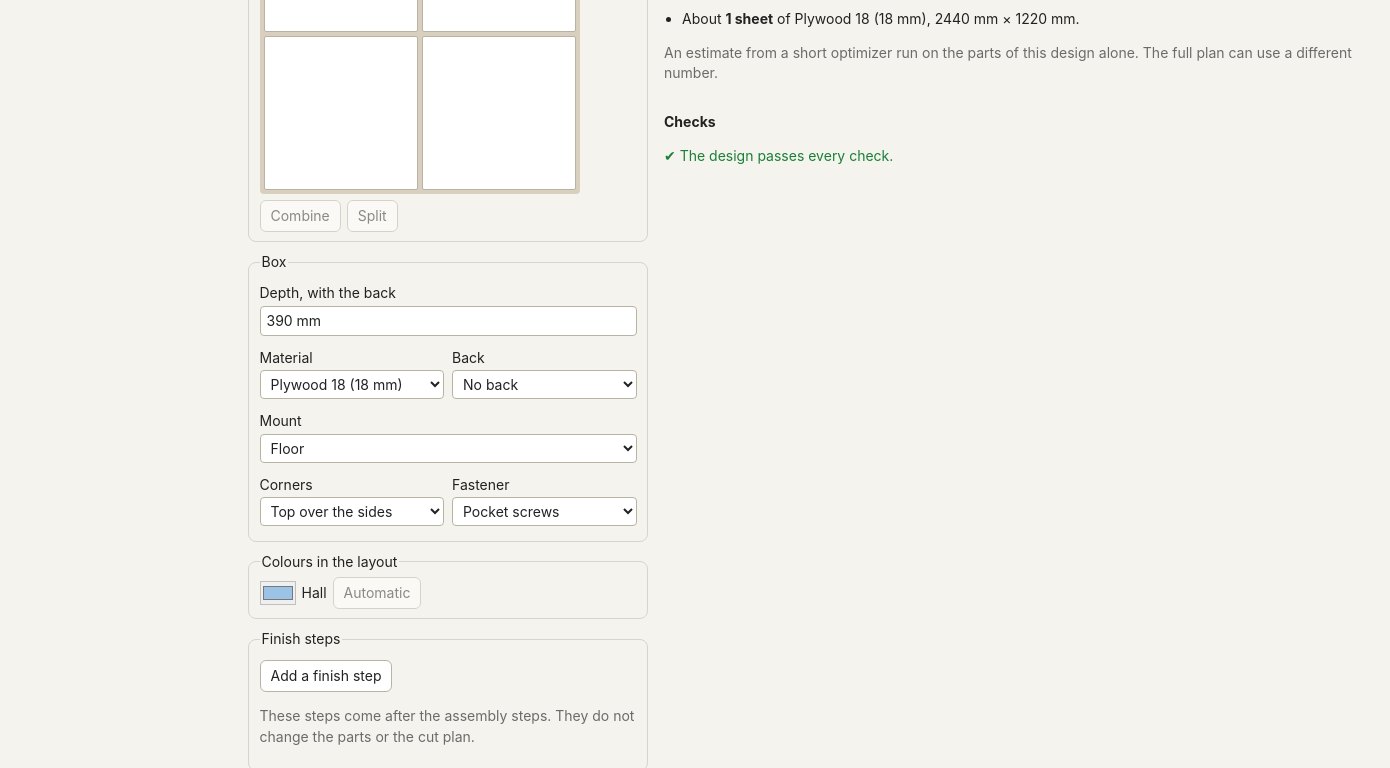
Test: DesignTab › refuses a value that gives a design error: it marks the field, says why, and changes nothing
(page scrolled)
Select "Plywood 6 (6 mm)" in the dropdown labelled "Material" at (352, 385), box [260,370,444,399]
(page scrolled)
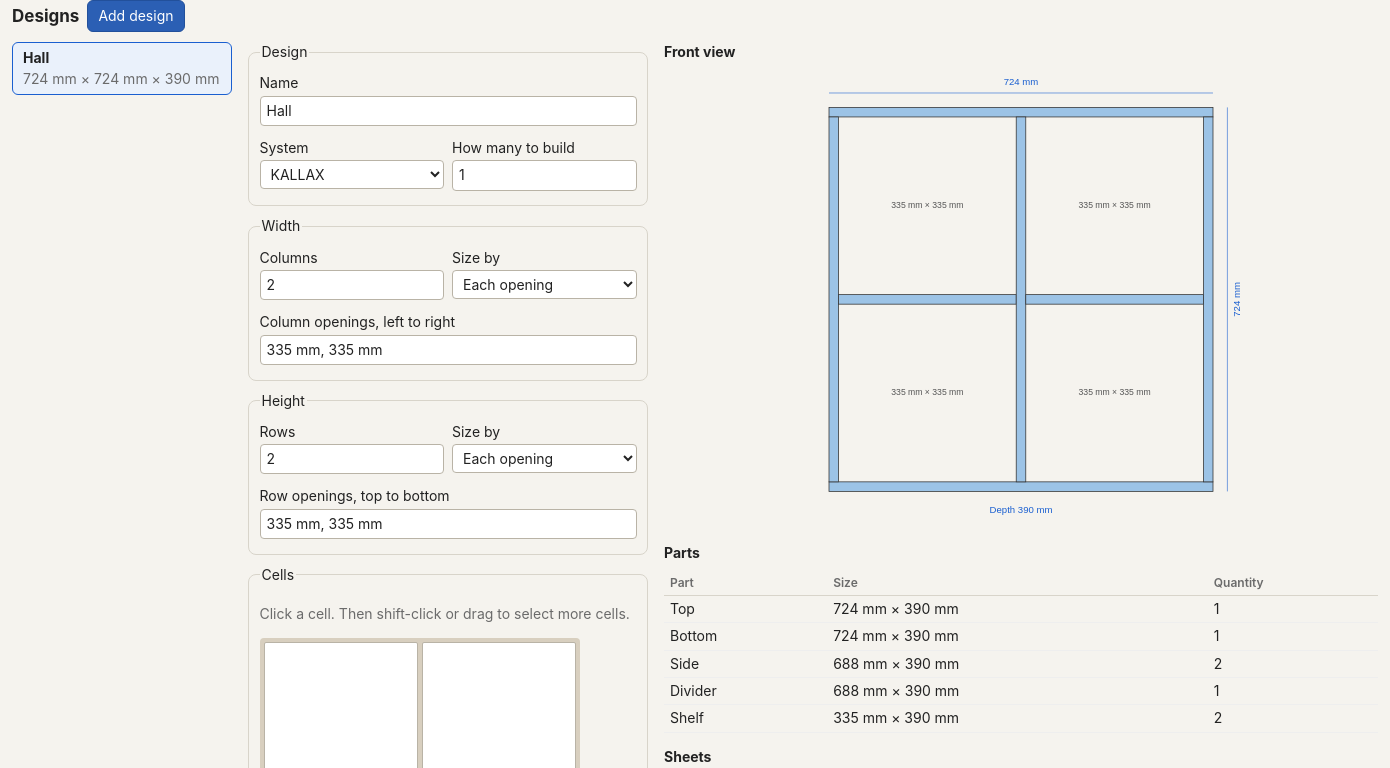
Select "The outside size" in the dropdown labelled "Size by" below "Columns" at (544, 284), box [452,270,636,299]
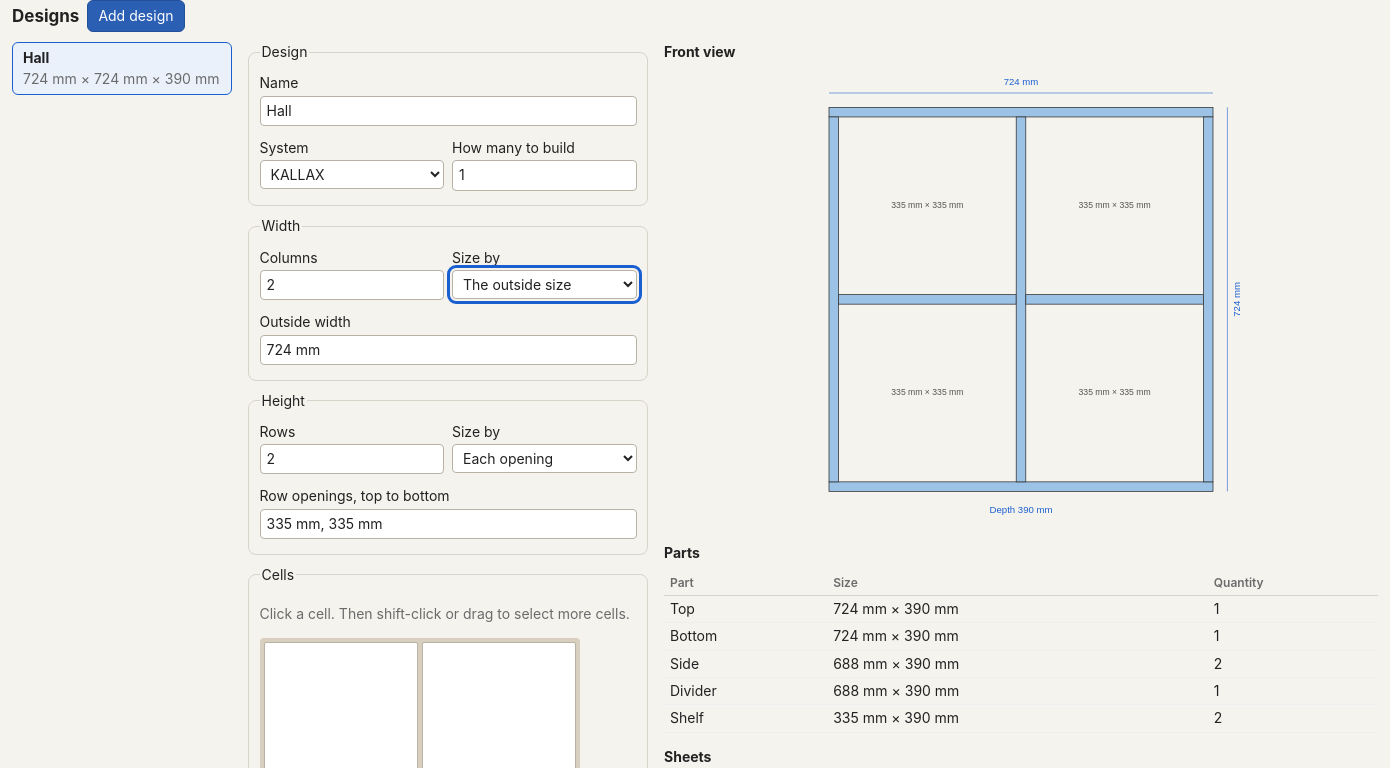
Replace the text in the field labelled "Outside width" with "40" at (448, 350), box [260,334,636,365]
Then press Enter
(page scrolled)
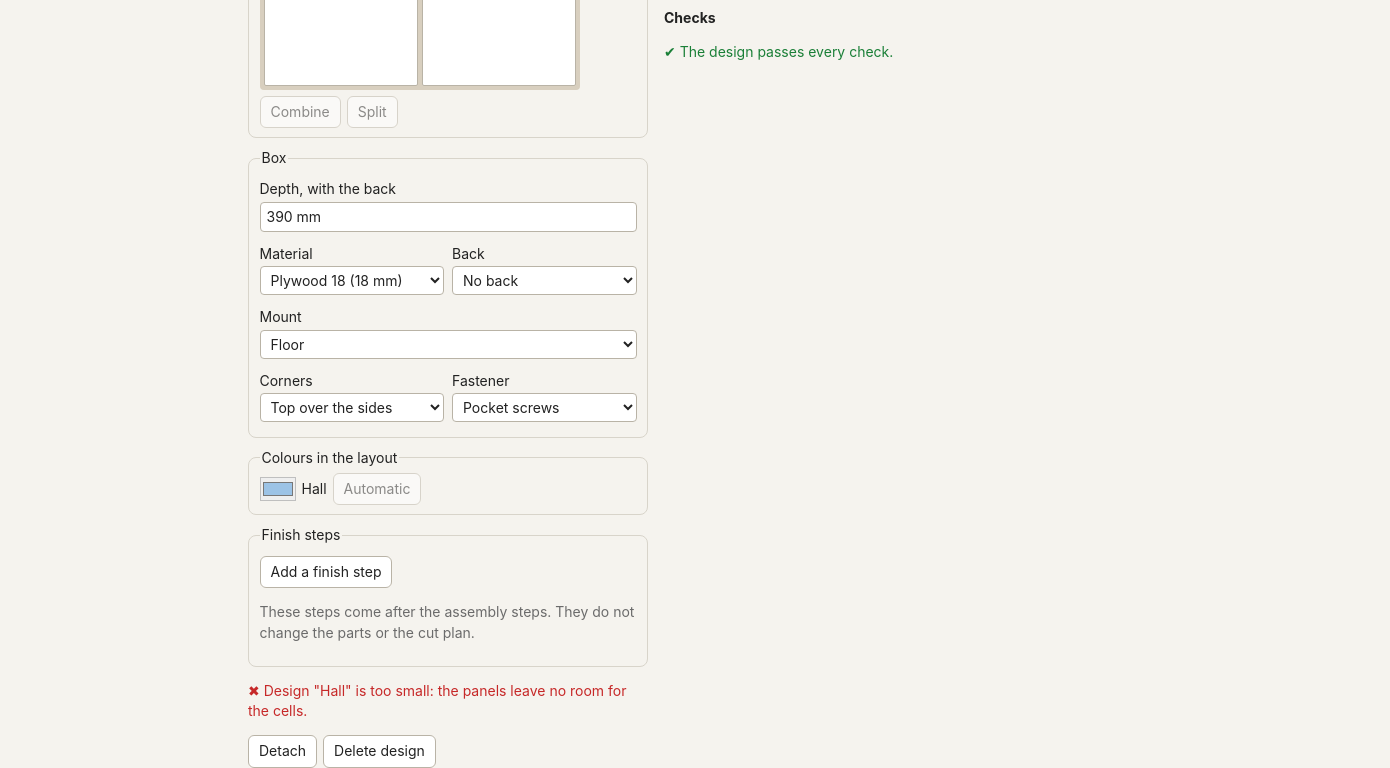
Now the message reads "✖ Design \"Hall\" is too small: the panels leave no room for the cells.", box [248,681,648,721]
